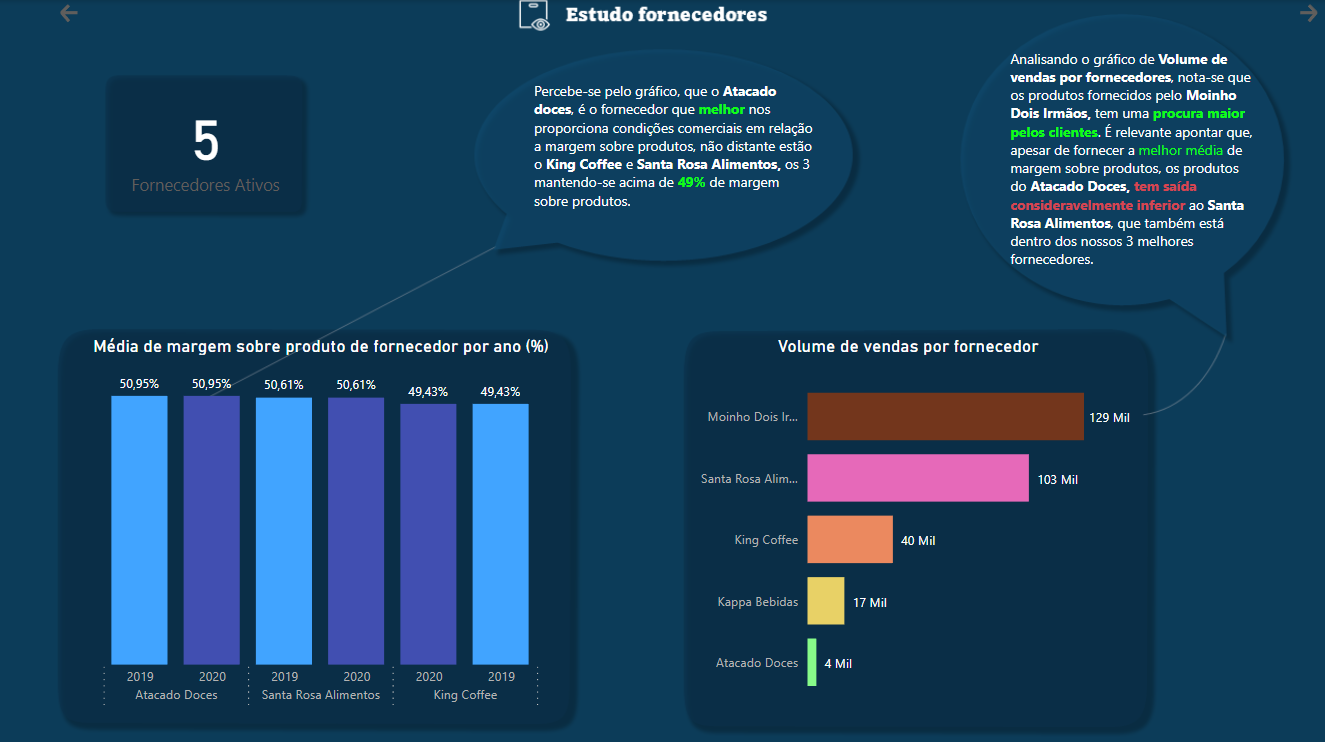

This screenshot's page, from the dashboard's own definition file:
{"tool":"powerbi","page":{"name":"Estudo_fornecedor","canvas":[1280,720],"ordinal":3},"visuals":[{"type":"clusteredColumnChart","title":"Média de margem sobre produto de fornecedor por ano (%)","fields":{"Category":["Dim_produtos.Fornecedor","Tb_calendario.Date.Variation.Hierarquia de datas.Ano"],"Y":["Avg(Fato_vendas.Margem)"]},"box":[74.6,322.7,469.4,369.2],"z":0},{"type":"clusteredBarChart","title":"Volume de vendas por fornecedor","fields":{"Category":["Dim_produtos.Fornecedor","Tb_calendario.Date.Variation.Hierarquia de datas.Ano"],"Y":["Medidas.Volume_vendas"]},"box":[657.3,323.2,437.8,369],"z":1000},{"type":"card","fields":{"Values":["Count(Dim_produtos.Fornecedor)"]},"box":[117,83.2,162.8,112.2],"z":2000},{"type":"textbox","box":[510.2,73.6,281,161.6],"z":3000},{"type":"textbox","box":[969.6,42.2,249.6,240],"z":4000},{"type":"actionButton","box":[1249.4,0,30.2,25.3],"z":5000},{"type":"actionButton","box":[54.3,0,26.5,25.3],"z":6000}]}

Visuals, with their boxes in screenshot pixels (x1, y1, x2, y2), scaled from the page's 1280x720 canvas onto the 1325x742 screenshot:
"Média de margem sobre produto de fornecedor por ano (%)" clusteredColumnChart: (left=77, top=333, right=563, bottom=713)
"Volume de vendas por fornecedor" clusteredBarChart: (left=680, top=333, right=1134, bottom=713)
card - Count(Dim_produtos.Fornecedor): (left=121, top=86, right=290, bottom=201)
textbox: (left=528, top=76, right=819, bottom=242)
textbox: (left=1004, top=43, right=1262, bottom=291)
actionButton: (left=1293, top=0, right=1324, bottom=26)
actionButton: (left=56, top=0, right=84, bottom=26)
